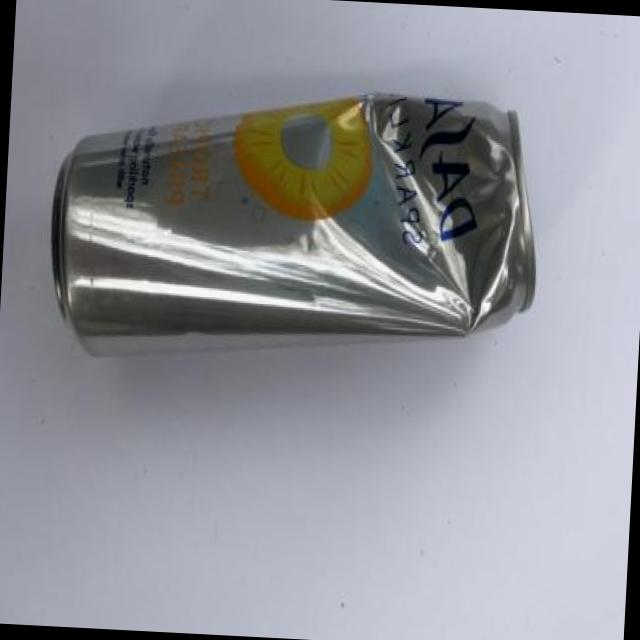kim_loai: (49, 96, 538, 361)
